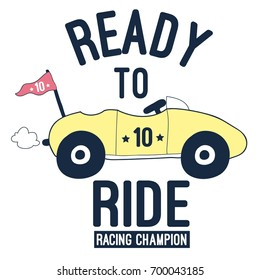car: (41, 95, 248, 180)
